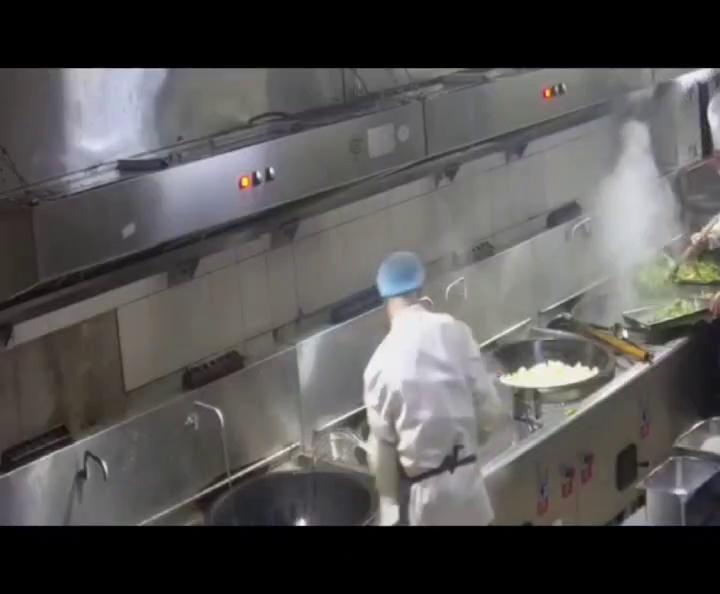gloves: (376, 252, 426, 296)
